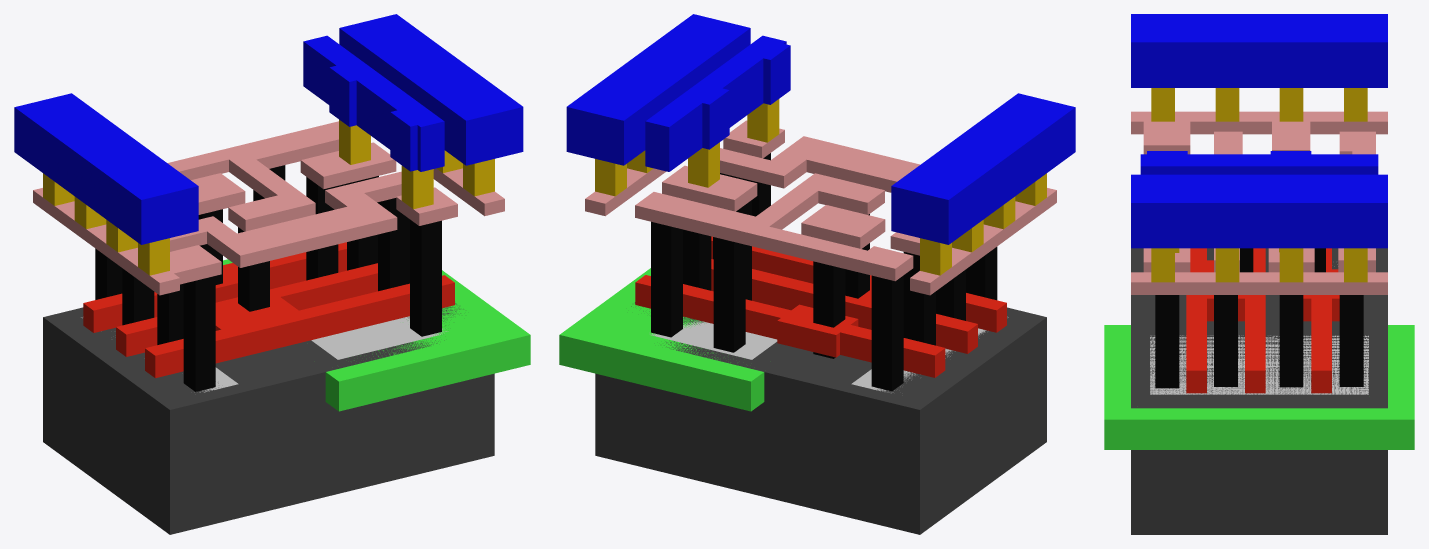
The model's file is sky130_fd_sc_hd__lpflow_clkbufkapwr_2.obj.
The picture shows the model from 3 angles, left to right: view 1: azimuth 30°, elevation 25°; view 2: azimuth 150°, elevation 25°; view 3: azimuth 270°, elevation 25°; orthographic projection.
Parts seen in each view (by area): view 1: subs, metal1, li, licon, poly, nwell, mcon, tap; view 2: subs, metal1, li, licon, poly, nwell, mcon, tap; view 3: metal1, subs, nwell, li, licon, poly, mcon, tap.
Boxes of the visible parts, x1,y1,x2,y2 form: subs: (43,303,494,534); metal1: (14,14,523,244); li: (33,121,504,295); licon: (95,165,441,391); poly: (83,242,454,378); nwell: (223,259,530,411); mcon: (43,119,494,275); tap: (311,316,448,359); subs: (595,302,1046,534); metal1: (566,14,1075,244); li: (585,120,1056,295); licon: (651,153,997,391); poly: (635,236,1006,377); nwell: (559,268,764,411); mcon: (595,99,1046,275); tap: (650,321,777,359); metal1: (1131,14,1387,248); subs: (1131,248,1387,534); nwell: (1104,325,1414,449); li: (1131,111,1387,294); licon: (1155,248,1363,388); poly: (1186,248,1339,393); mcon: (1151,88,1367,282); tap: (1150,335,1368,394).
Bounding box in the file's own units: 3.2 × 2.74 × 2.22.
